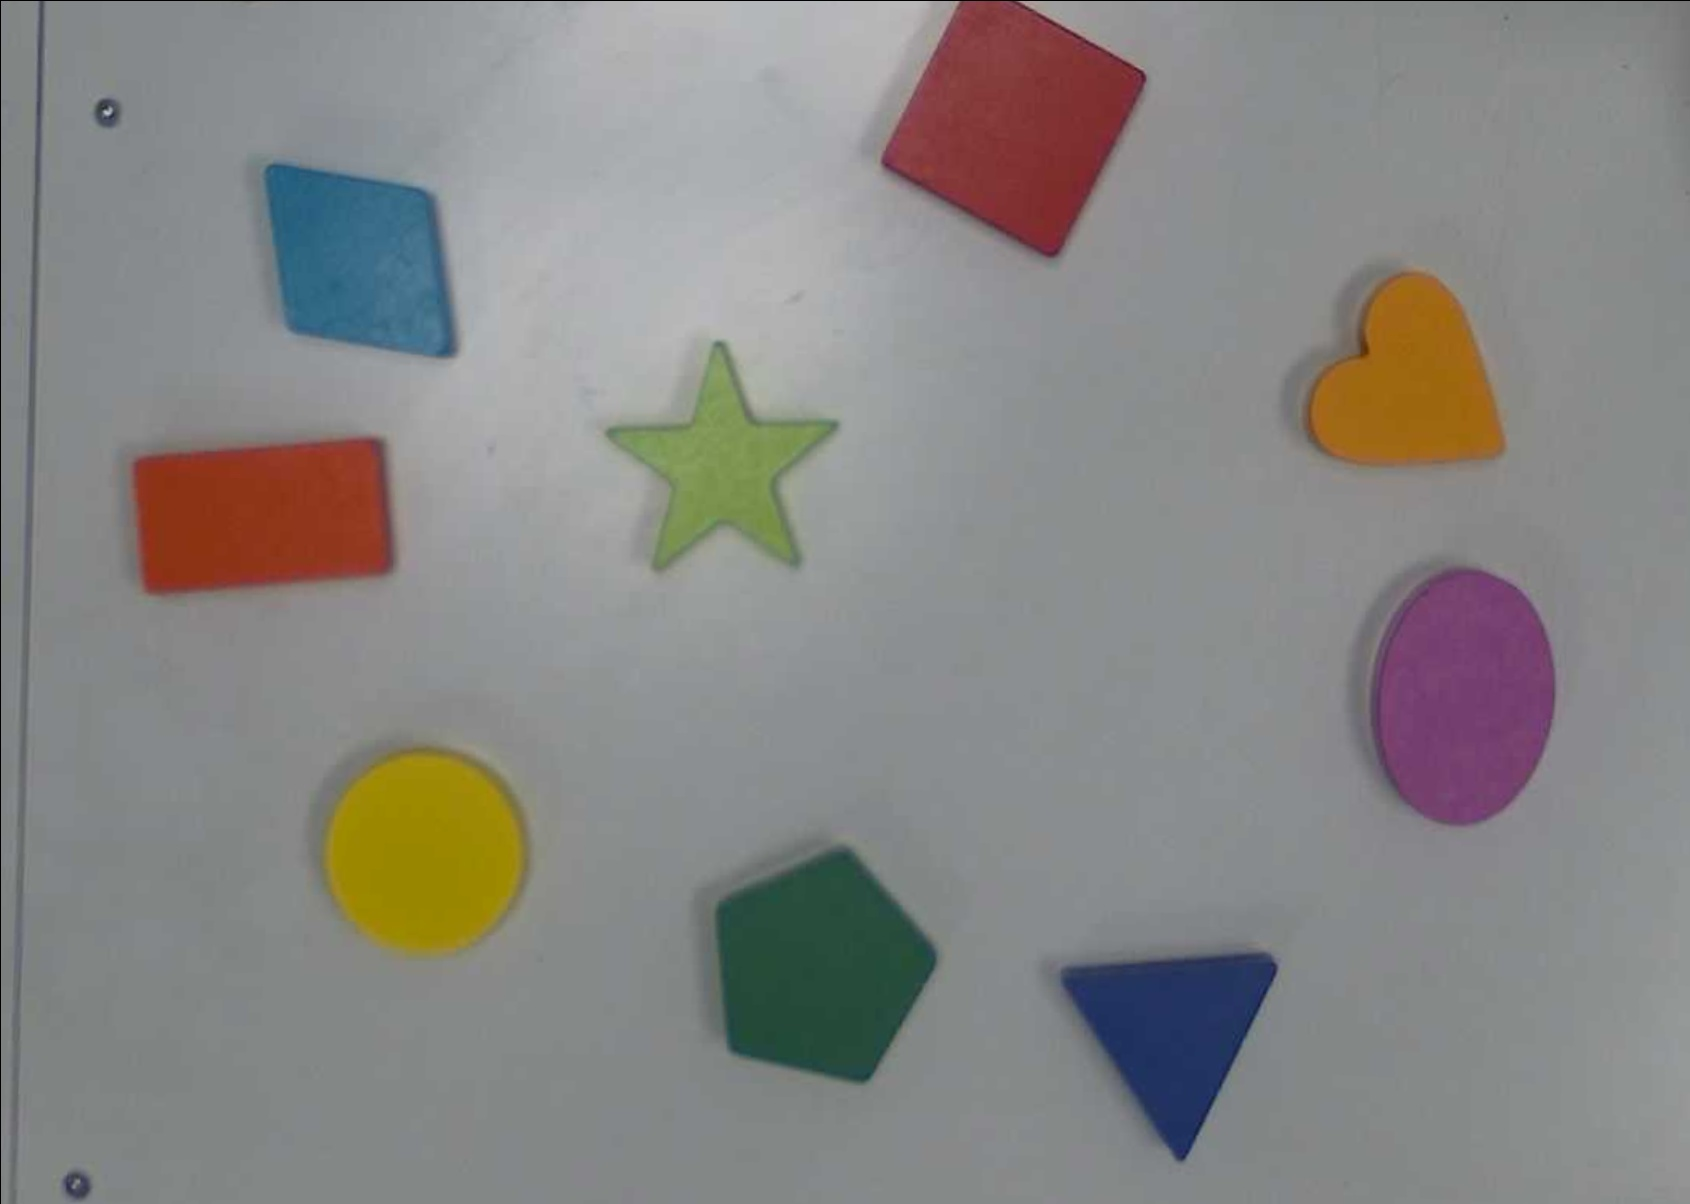Circle: (318, 748, 533, 963)
Ellipse: (1364, 566, 1564, 827)
Heart: (1304, 272, 1510, 470)
Parallelogram: (265, 160, 459, 361)
Pentagon: (711, 844, 945, 1085)
Rectangle: (130, 434, 399, 598)
Square: (880, 0, 1151, 257)
Star: (603, 337, 844, 579)
Triangle: (1059, 951, 1278, 1164)
